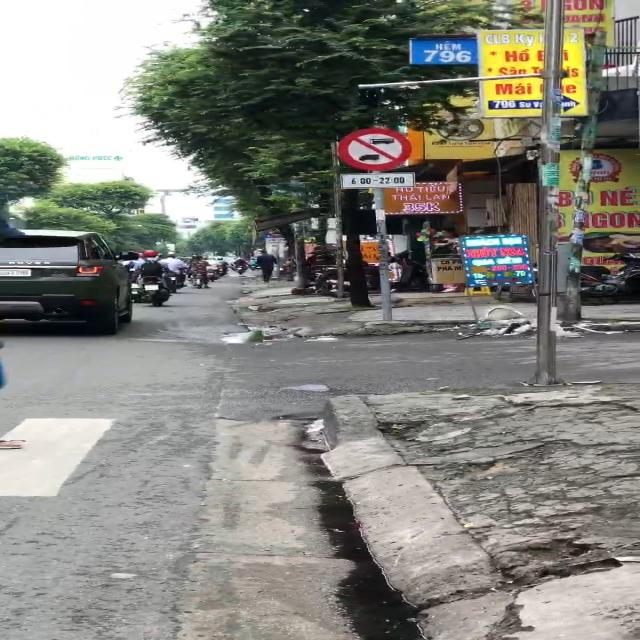Bien bao cam xe oto khach va xe oto tai: (334, 124, 417, 171)
